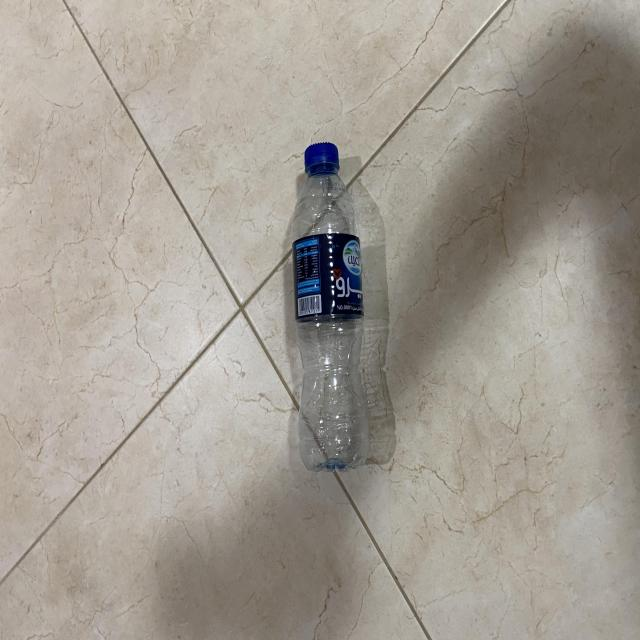bottle: (279, 130, 373, 483)
